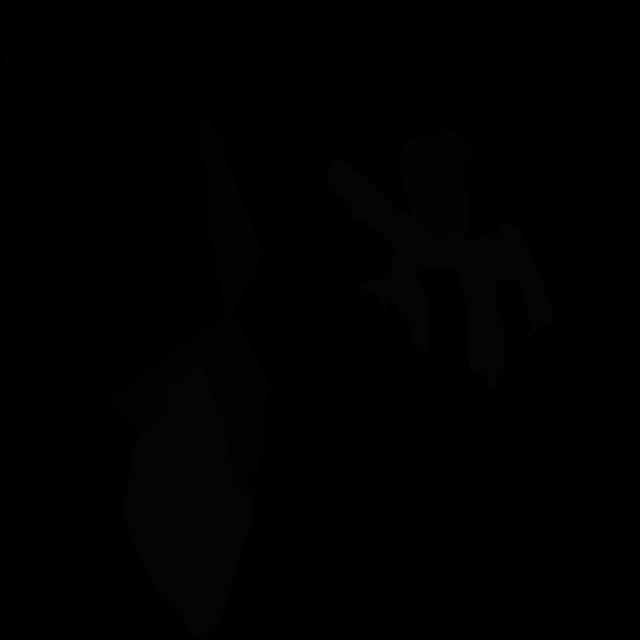cardboard: (104, 289, 270, 492), (196, 115, 262, 310)
metal: (402, 128, 472, 237)
soft_plastic: (326, 155, 554, 389), (124, 360, 255, 640)
